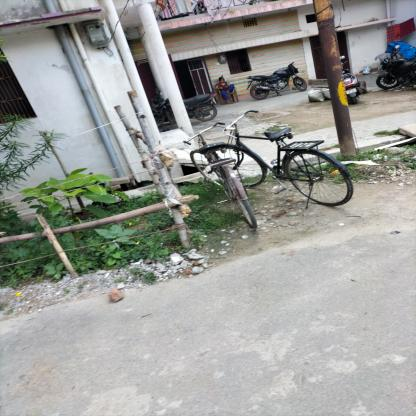bike: (224, 103, 361, 210), (173, 127, 259, 243)
